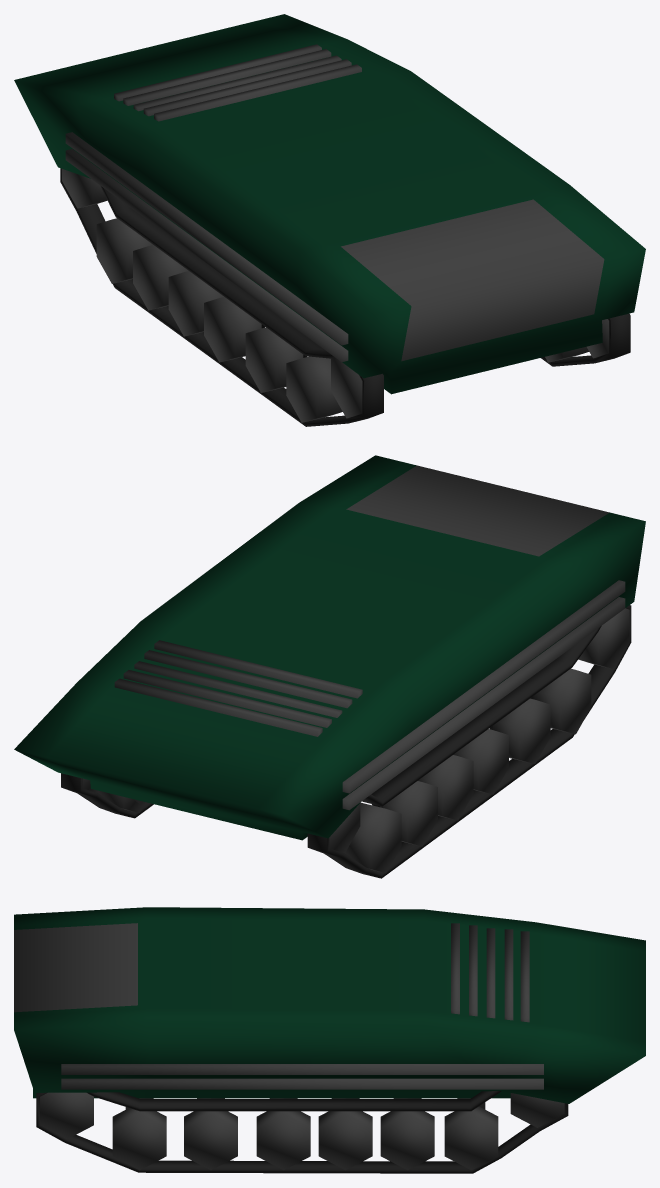
The model's file is Warsaw-BMP2.obj.
The picture shows the model from 3 angles, top to bottom: view 1: azimuth 30°, elevation 25°; view 2: azimuth 150°, elevation 25°; view 3: azimuth 270°, elevation 25°; orthographic projection. The views are drawn at different scales.
Visible parts, largest first — view 1: Warsaw-BMP-2_Cube; view 2: Warsaw-BMP-2_Cube; view 3: Warsaw-BMP-2_Cube.
Part boxes in pixels (x1,y1,x2,y2): Warsaw-BMP-2_Cube: (14, 14, 645, 426); Warsaw-BMP-2_Cube: (14, 455, 645, 878); Warsaw-BMP-2_Cube: (14, 907, 645, 1173).
Size of the model in its own units: 1.63 by 0.9595 by 3.61.
